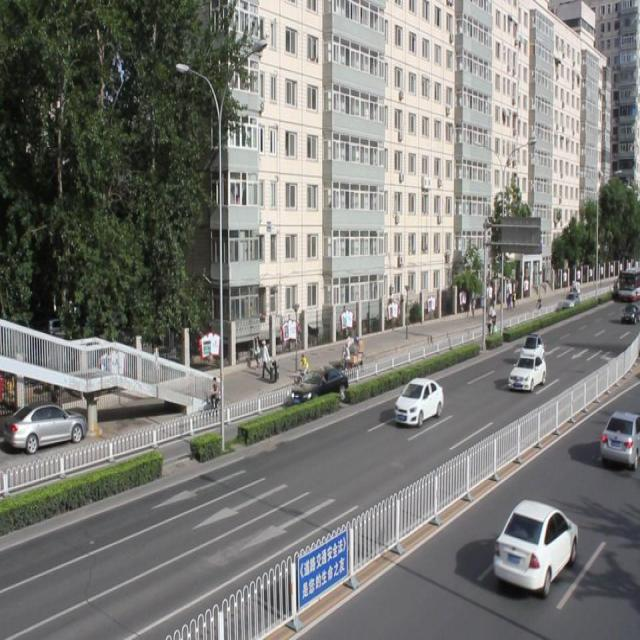car: (492, 497, 577, 592), (598, 409, 640, 469), (392, 376, 442, 426), (290, 364, 347, 404), (506, 350, 545, 392), (517, 332, 543, 364)
